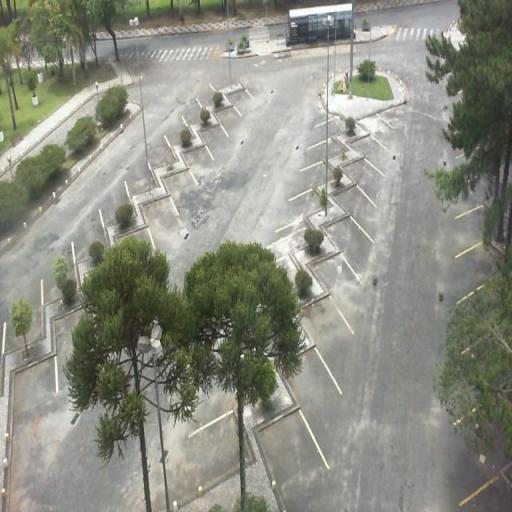Slot-empty: (176, 403, 254, 501), (250, 417, 336, 505), (271, 341, 353, 417), (4, 362, 64, 446), (294, 286, 358, 352), (312, 245, 371, 307), (340, 154, 392, 204), (164, 156, 207, 216), (319, 210, 369, 258), (334, 180, 388, 224), (148, 185, 183, 250), (347, 128, 396, 173), (281, 187, 327, 229), (193, 115, 233, 161), (182, 140, 222, 184), (294, 164, 344, 196), (214, 98, 246, 142), (224, 83, 262, 119), (304, 137, 342, 173), (312, 114, 346, 148)
